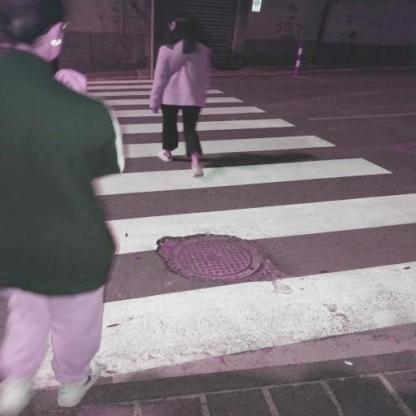crosswalk: (85, 130, 400, 202)
